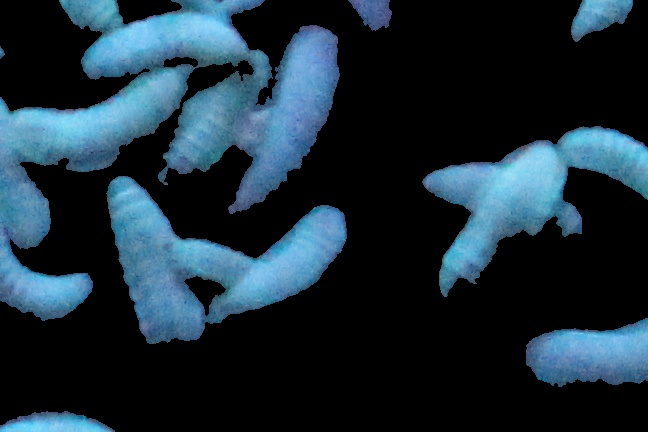larvae: (229, 26, 341, 213), (437, 140, 559, 300), (106, 175, 208, 345), (210, 204, 347, 324), (9, 76, 175, 169), (162, 51, 270, 179), (421, 161, 587, 241), (1, 207, 90, 330), (82, 14, 253, 78), (521, 317, 648, 394), (1, 89, 53, 247), (556, 123, 648, 199), (539, 1, 644, 44), (1, 404, 120, 432), (173, 242, 259, 280), (50, 1, 123, 35)
